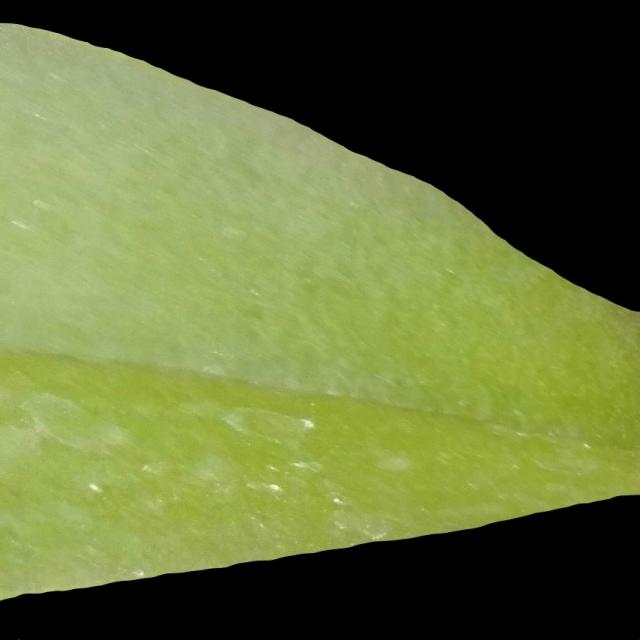mite: (20, 383, 335, 526), (17, 387, 130, 455), (220, 403, 317, 451), (372, 448, 412, 475), (82, 475, 108, 501), (87, 480, 104, 496), (265, 480, 283, 494), (581, 439, 592, 450)
spots: (1, 21, 637, 598)
